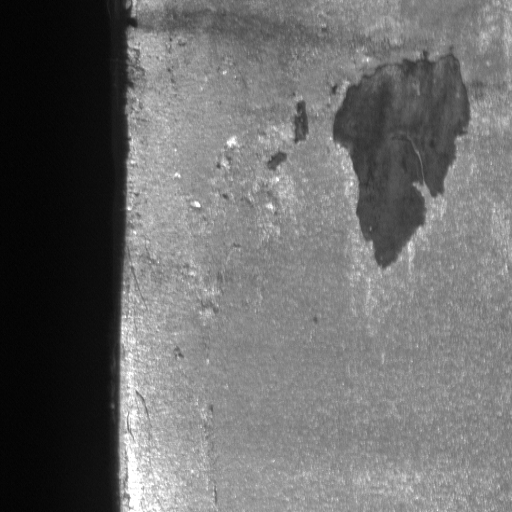aokeng: (332, 51, 472, 269)
